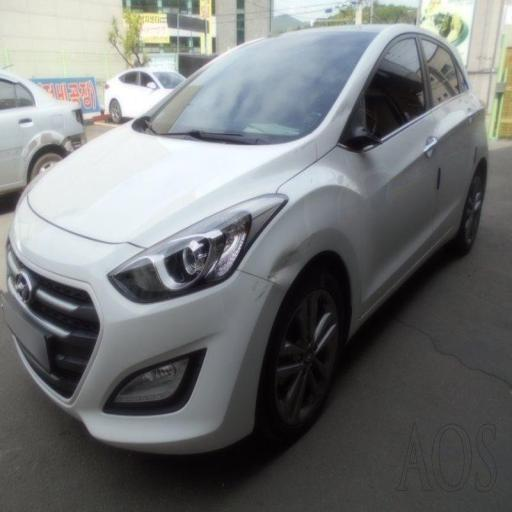dent: (224, 244, 348, 305)
